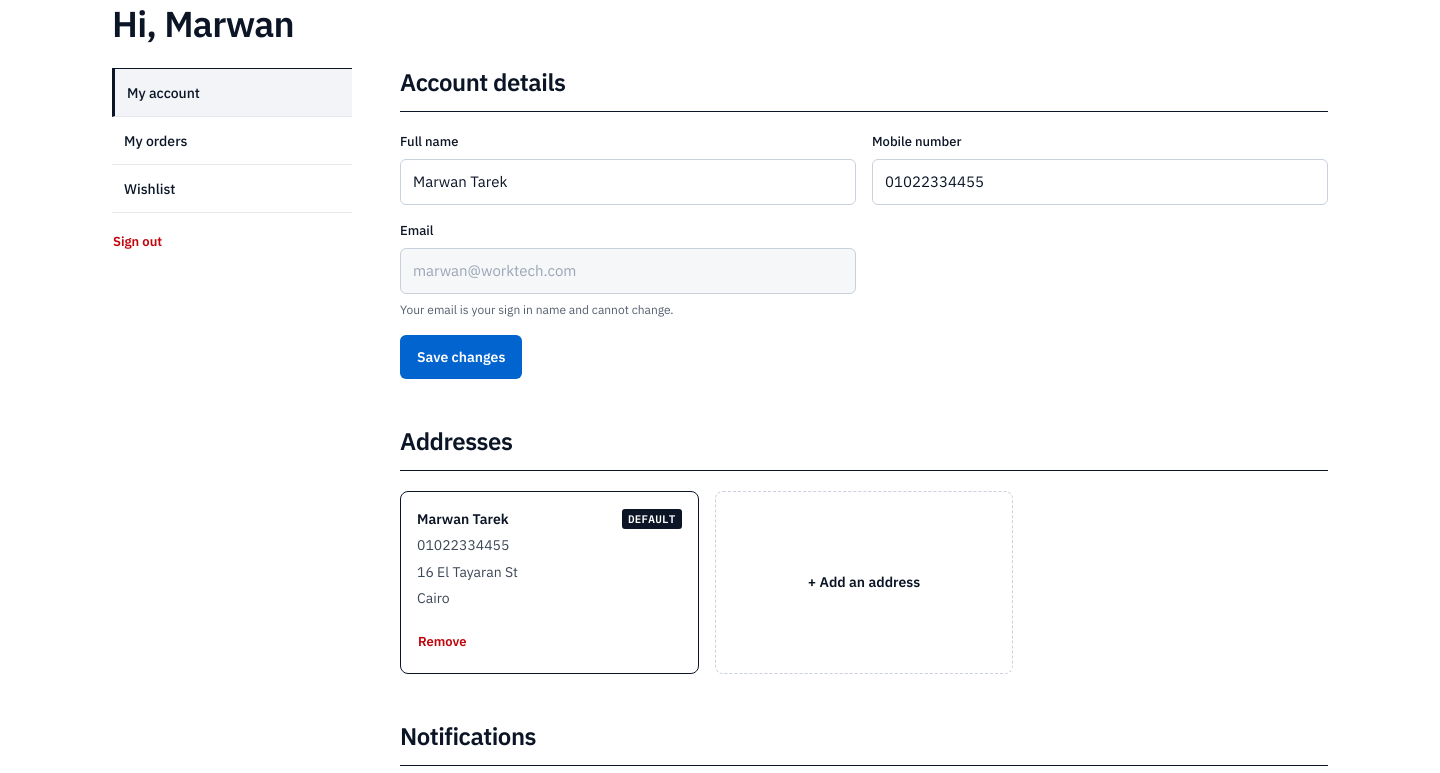
Test: adds an address
Click the button "+ Add an address" at coordinates (864, 583), box [715,491,1013,674]
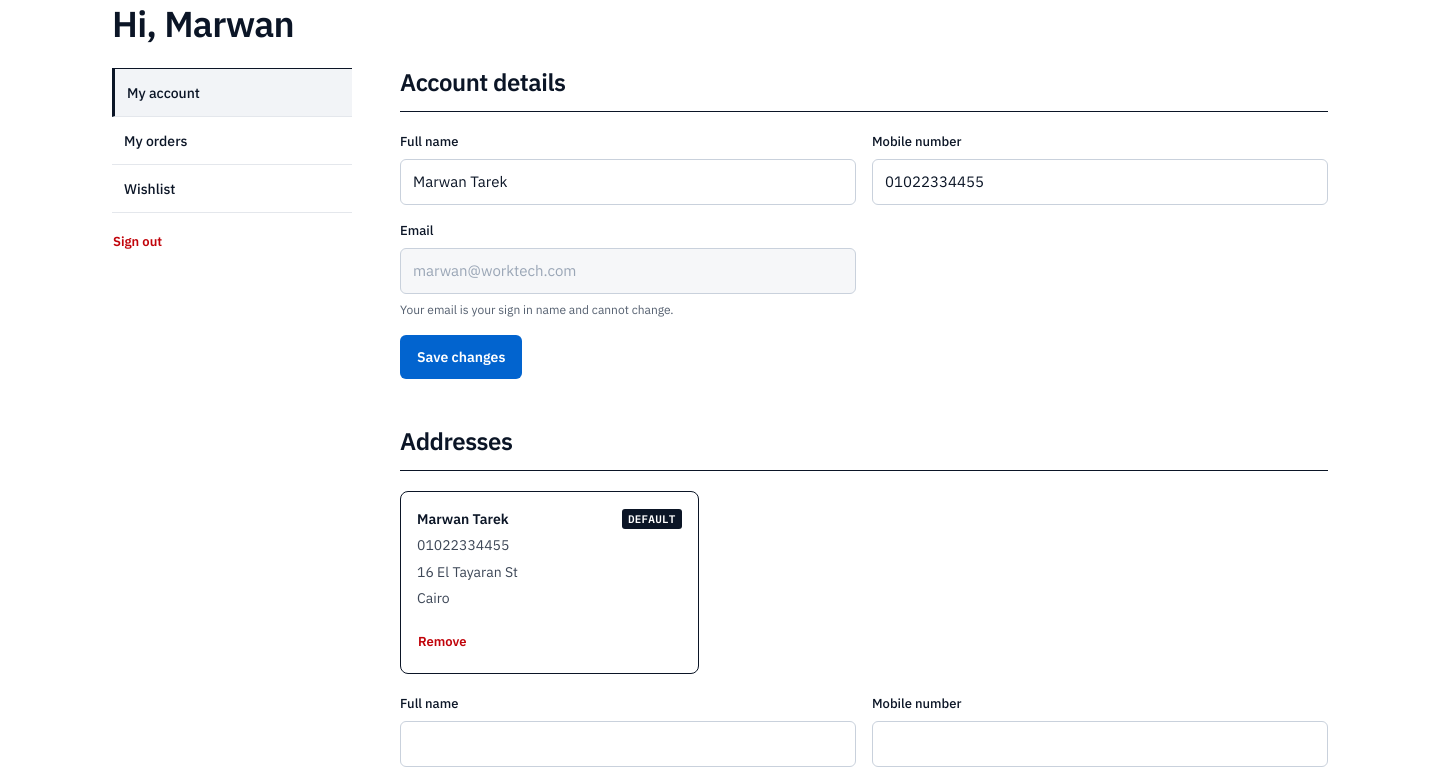
Type "Mona Adel" into the field labelled "Full name" below "Cairo" at coordinates (628, 744), box [400,721,856,767]
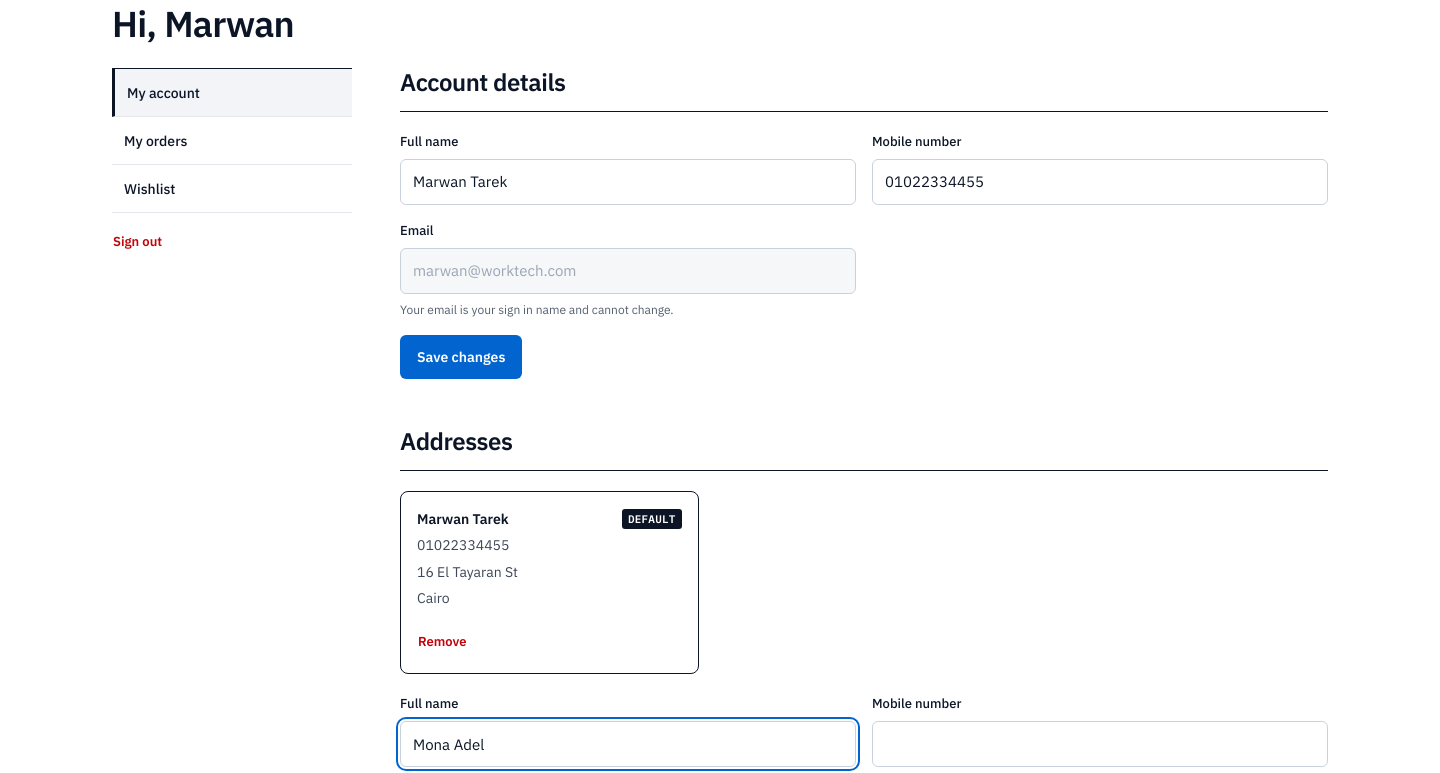
Type "01012345678" into the 2nd field labelled "Mobile number" at coordinates (1100, 744), box [872,721,1328,767]
(page scrolled)
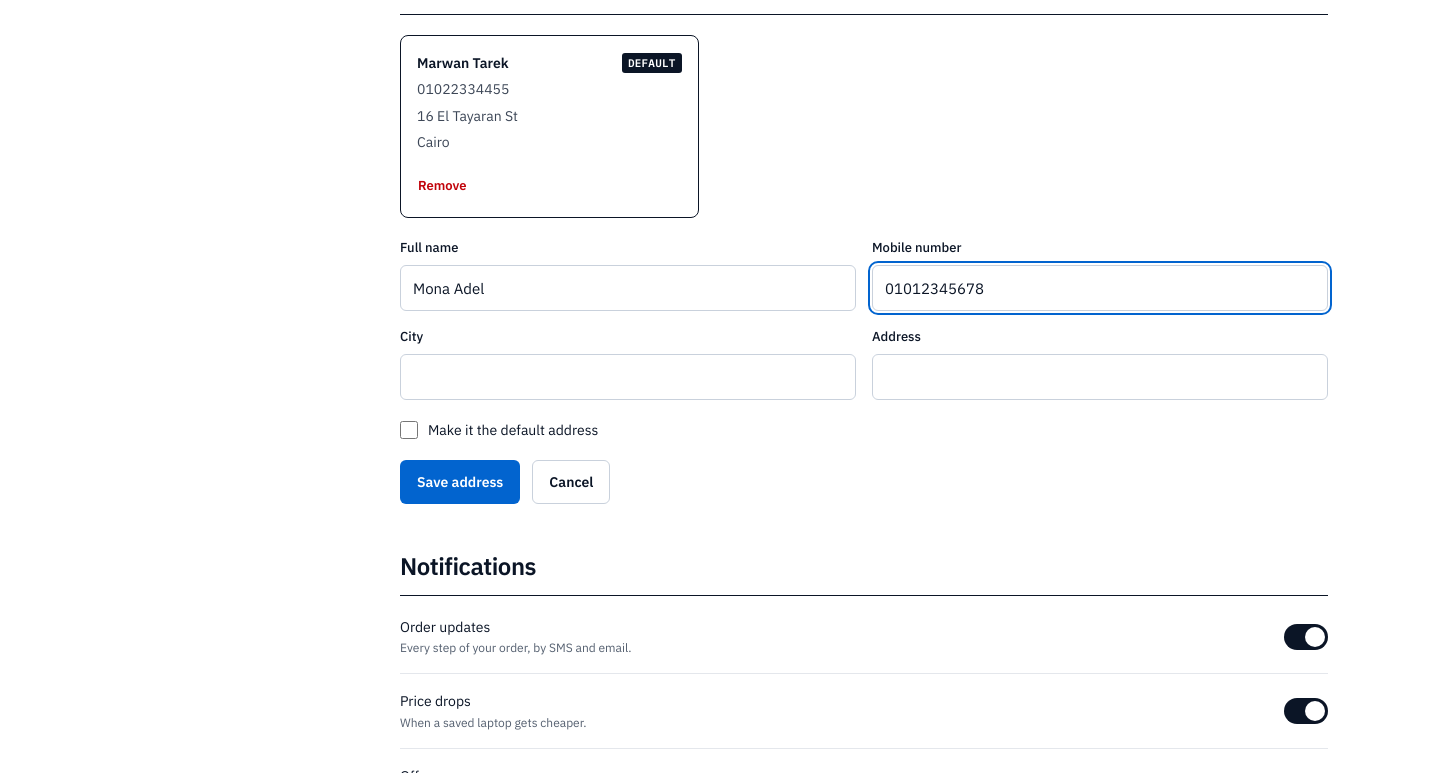
Type "Giza" into the field labelled "City" at coordinates (628, 377), box [400,354,856,400]
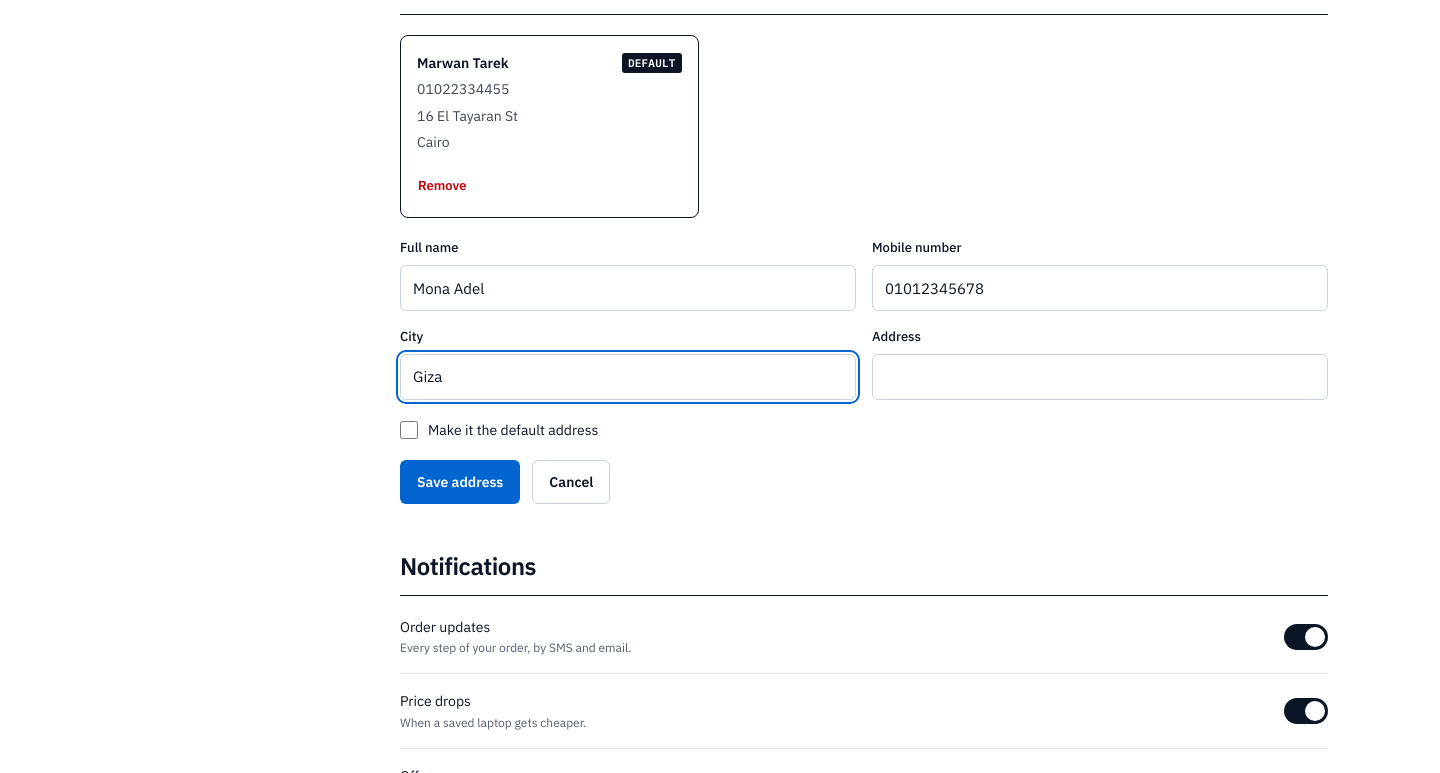
Type "25 Dokki Street, flat 4" into the field labelled "Address" at coordinates (1100, 377), box [872,354,1328,400]
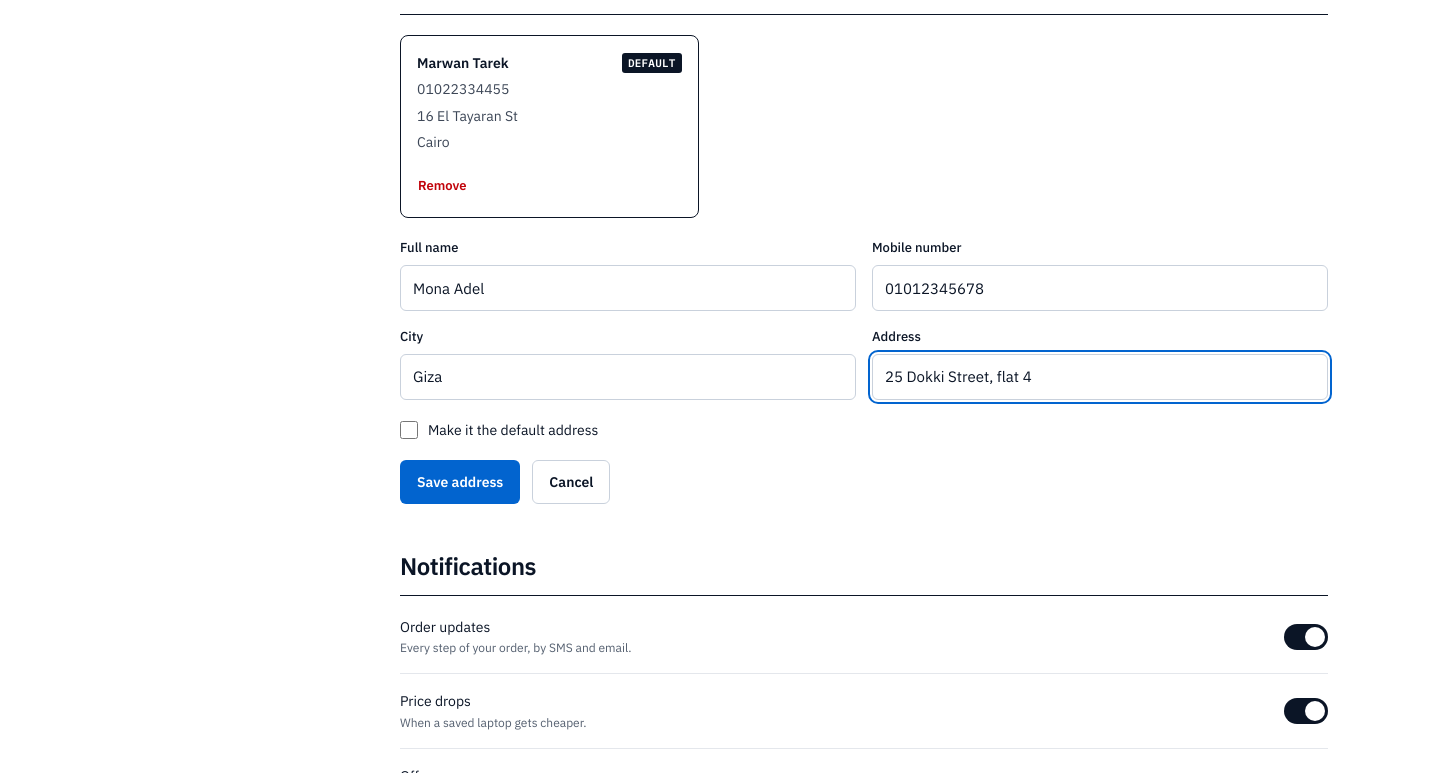
Click the button "Save address" at coordinates (460, 482), box [400,460,520,504]
(page scrolled)
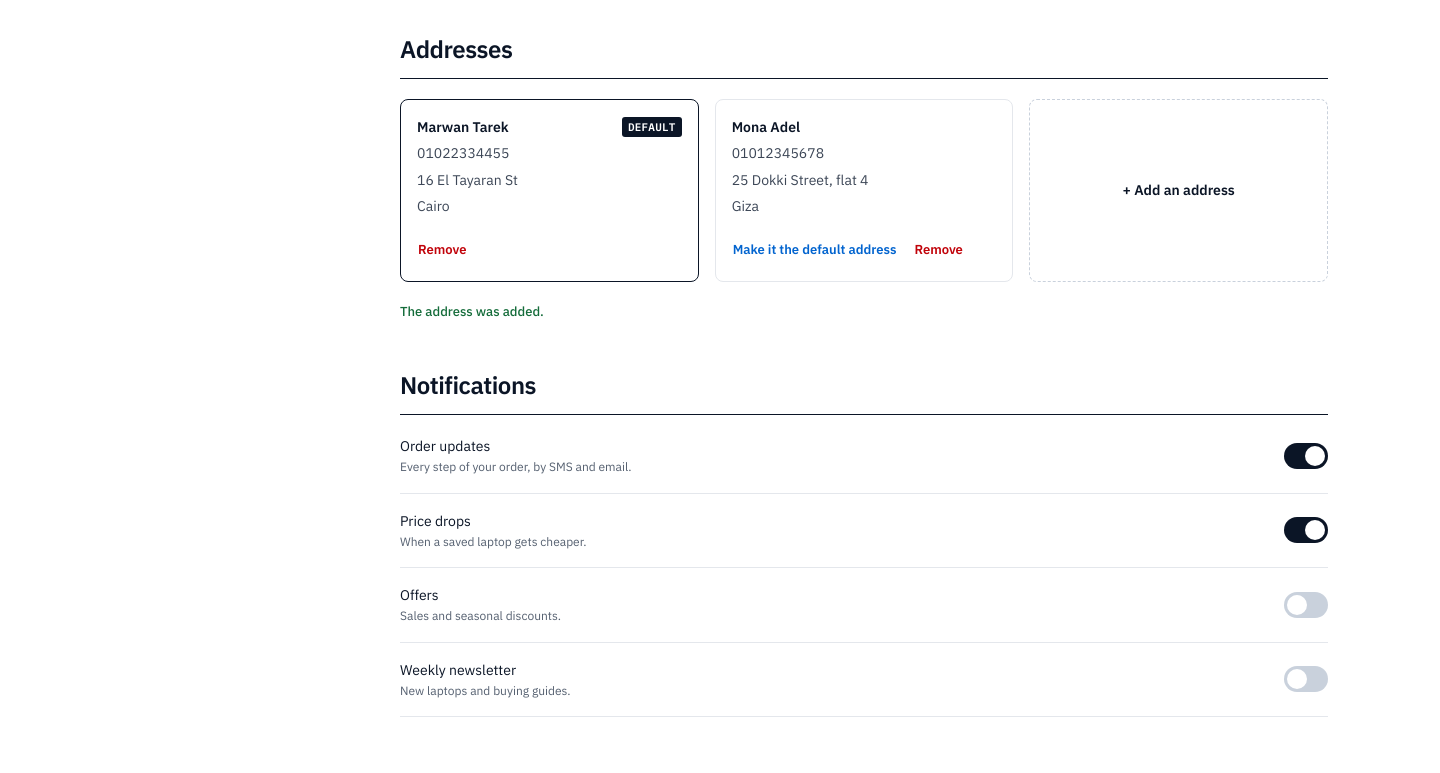
Now the text "25 Dokki Street, flat 4" is shown, box [732,170,869,188]
